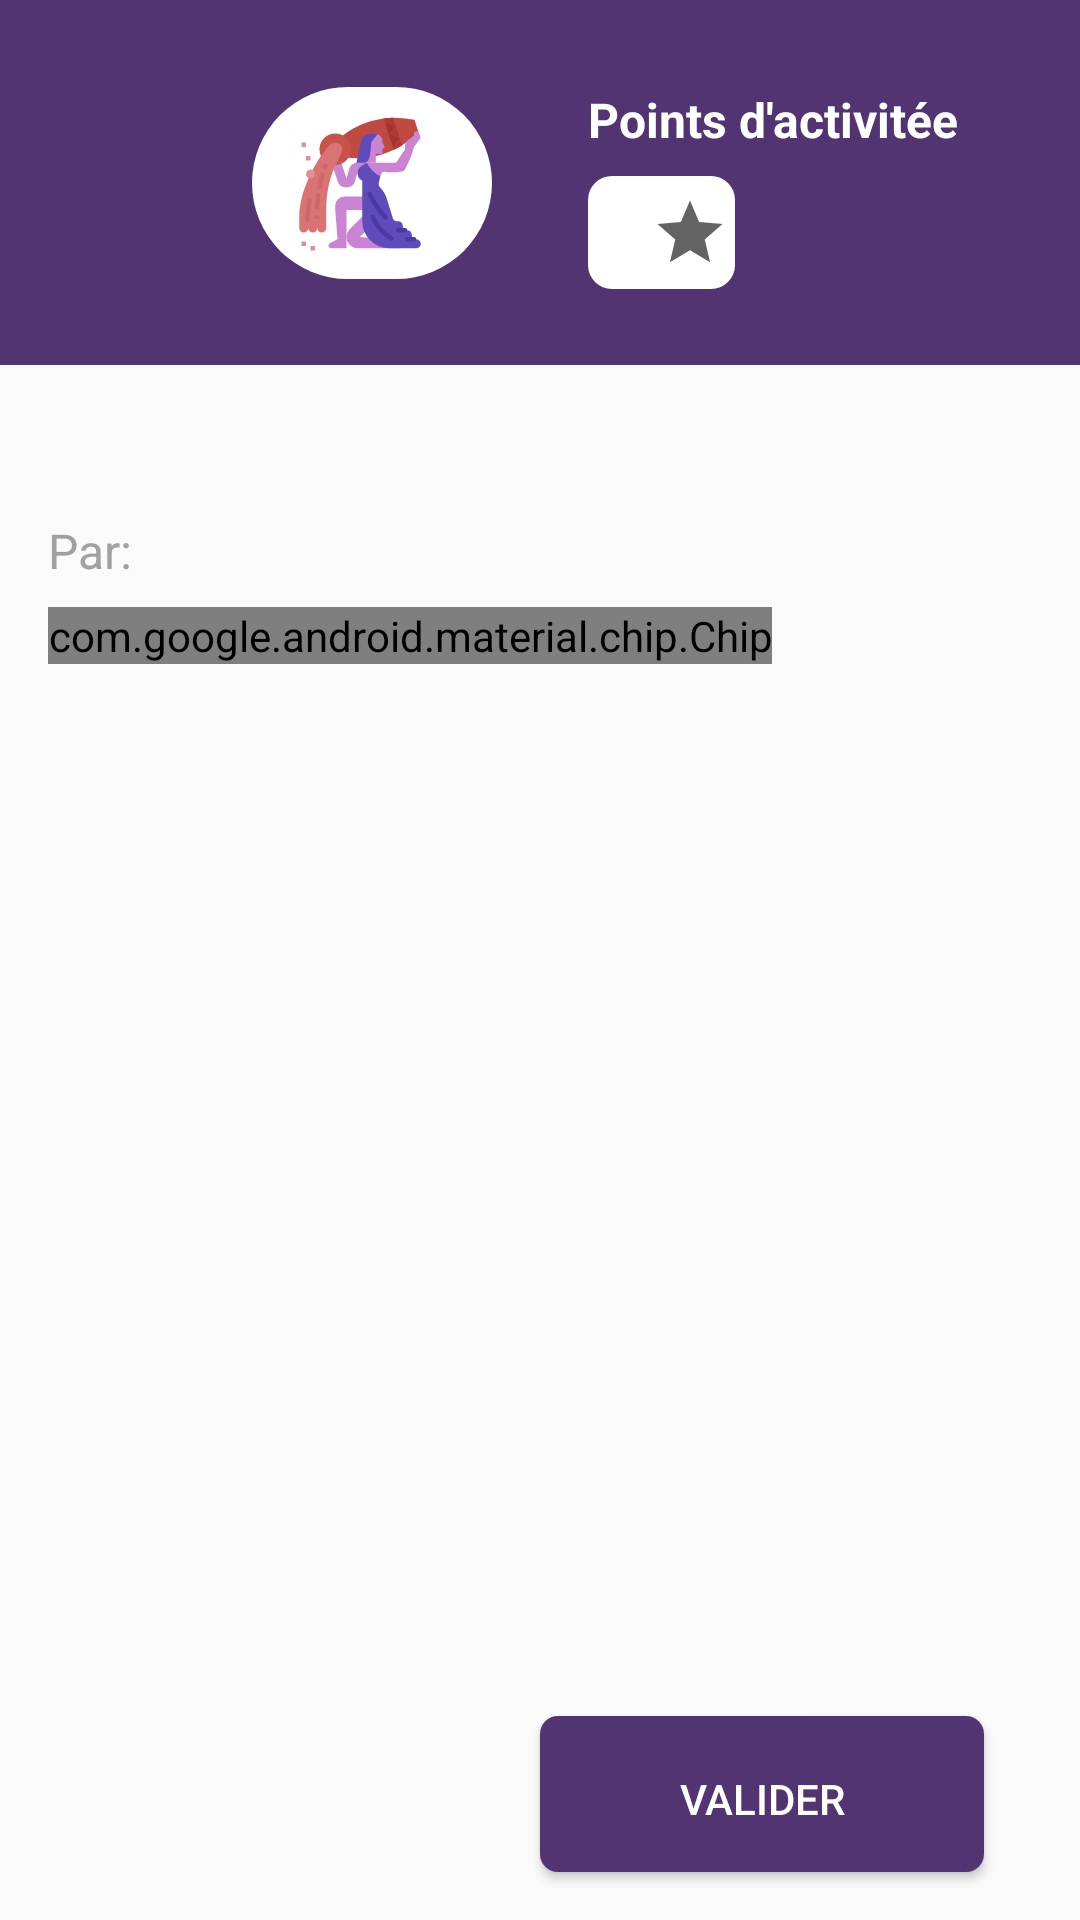

Where icons sit on this 1080×1920 app screen, as box(x1, y1, x2, y2):
star: box(658, 201, 722, 262)
verseau: box(252, 87, 444, 279)
